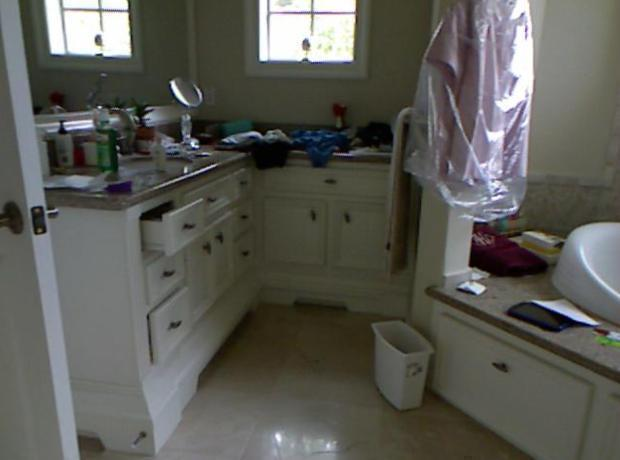Bote de Basura: (368, 310, 437, 417)
